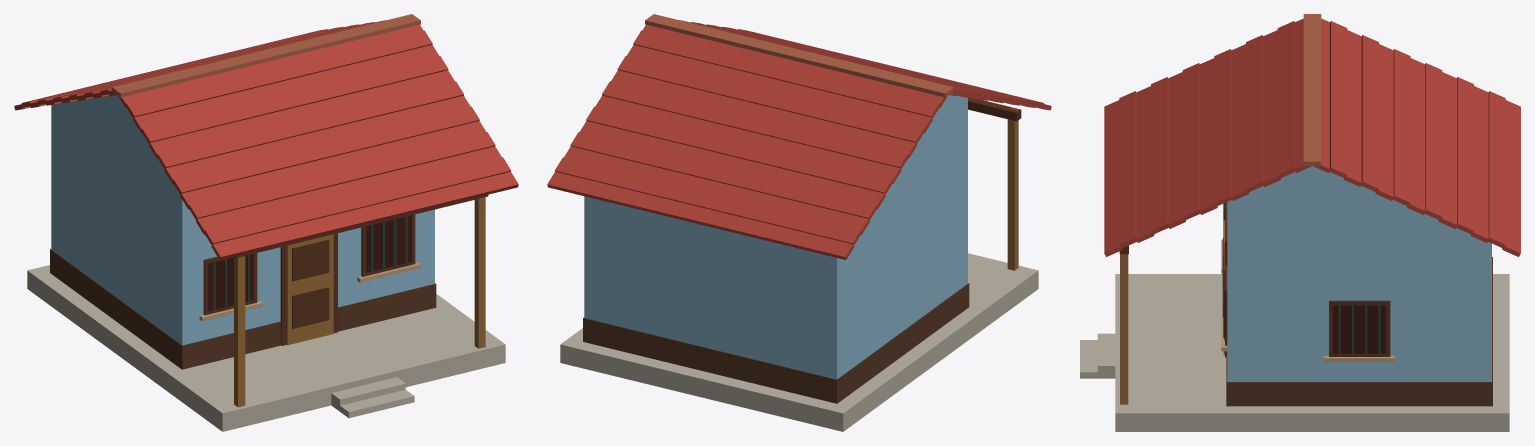
Rendered from provisions_store.glb.
3 renders of one model, left to right at view 1: azimuth 30°, elevation 25°; view 2: azimuth 150°, elevation 25°; view 3: azimuth 270°, elevation 25°, orthographic.
Visible parts, largest first — view 1: Roof, Walls, Base, Details; view 2: Roof, Walls, Base, Details; view 3: Roof, Walls, Base, Details.
Part boxes in pixels (<box>): Roof: <box>14,14,518,259</box>; Walls: <box>50,95,436,369</box>; Base: <box>27,265,505,431</box>; Details: <box>199,195,488,407</box>; Roof: <box>547,14,1051,259</box>; Walls: <box>583,95,969,403</box>; Base: <box>560,253,1038,431</box>; Details: <box>968,98,1021,270</box>; Roof: <box>1104,14,1520,256</box>; Walls: <box>1226,166,1492,406</box>; Base: <box>1080,274,1509,431</box>; Details: <box>1119,202,1394,404</box>.
Size of what is drawn, in the model's own units: 5.94 by 5.15 by 7.49.
